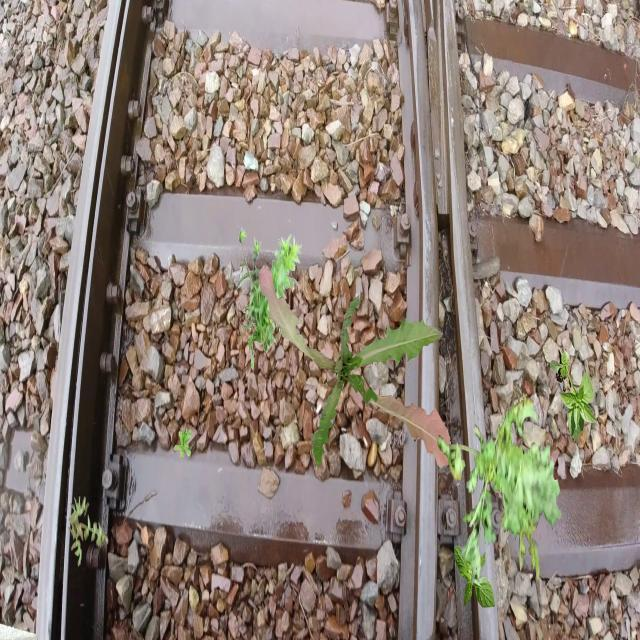Plant: (258, 267, 450, 470), (438, 390, 563, 586), (238, 226, 302, 369), (550, 347, 598, 442), (68, 496, 110, 568), (454, 540, 496, 611), (174, 428, 192, 460)
